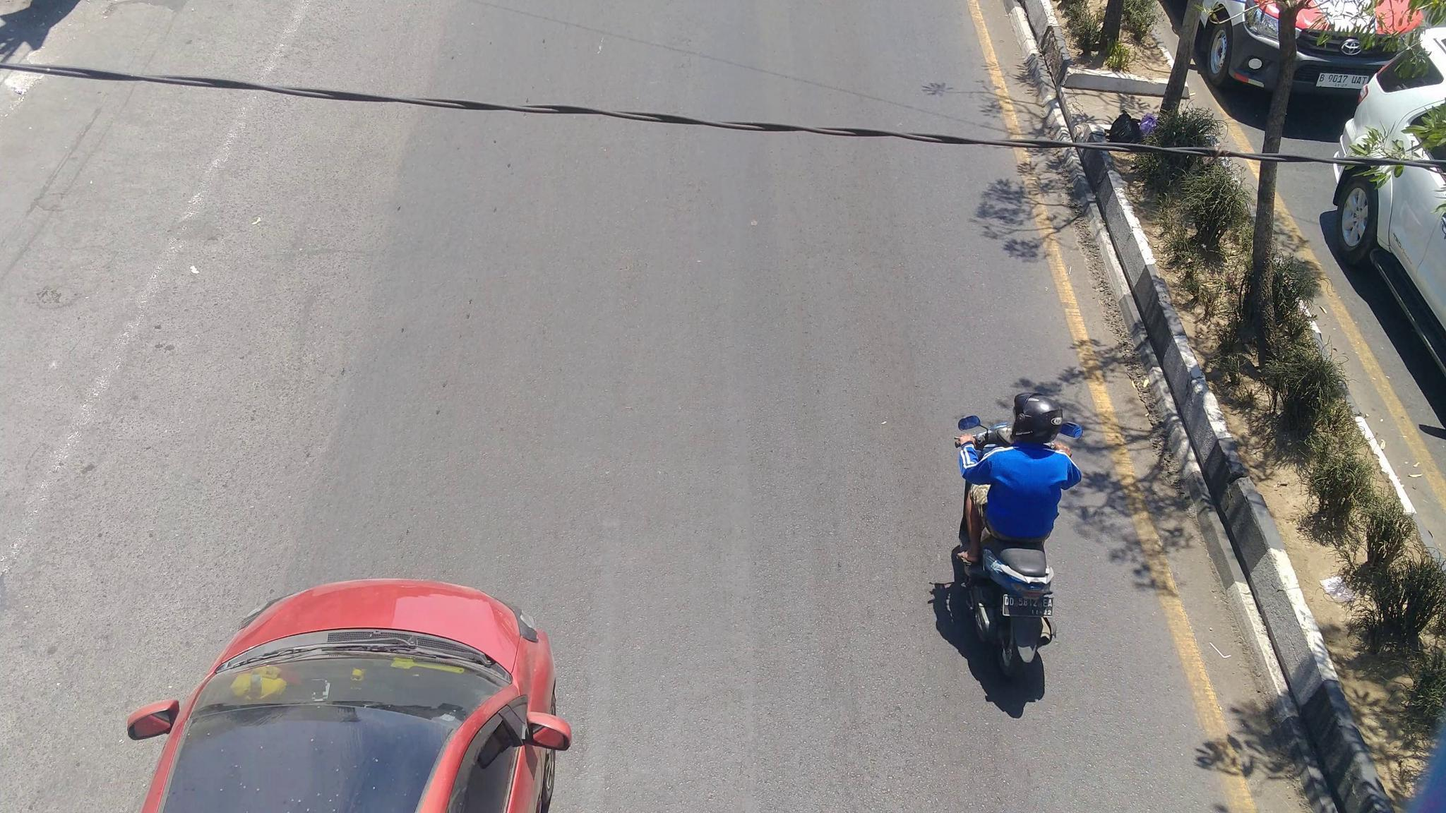Helmet: (1009, 389, 1068, 450)
bike: (953, 409, 1083, 675)
number-plate: (997, 592, 1056, 620)
rider: (958, 389, 1084, 565)
